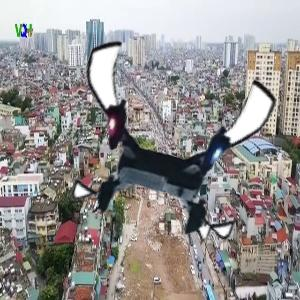drone: (66, 42, 263, 239)
